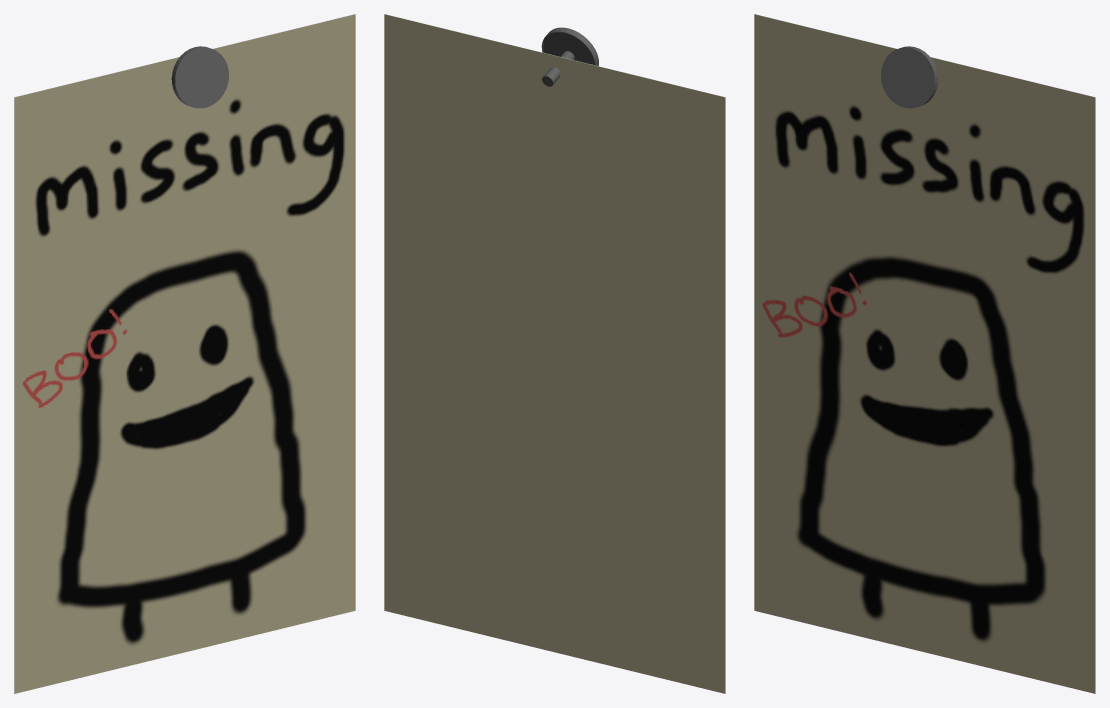
Rendered from note.fbx.
3 views of the same model, side by side, from view 1: azimuth 30°, elevation 25°; view 2: azimuth 150°, elevation 25°; view 3: azimuth 330°, elevation 25° (orthographic).
Parts seen in each view (by area): view 1: Nail; view 2: Nail; view 3: Nail.
Boxes of the visible parts, x1=… form: Nail: x1=14, y1=14, x2=355, y2=693; Nail: x1=384, y1=14, x2=725, y2=693; Nail: x1=754, y1=14, x2=1095, y2=693.
Size of the model in its own units: 147 by 253 by 21.49.
Materials: 1 (1 with a texture image).
